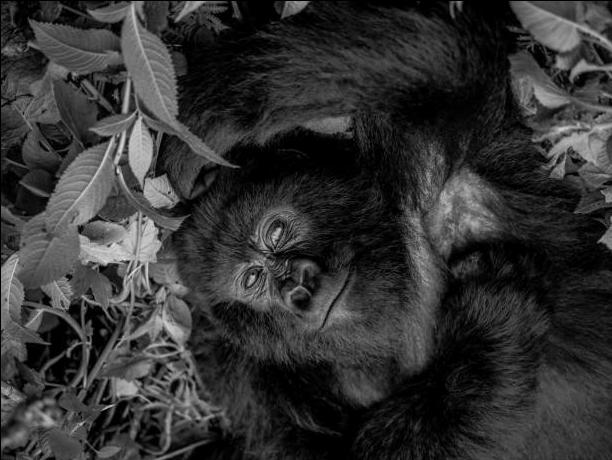goriile_montagne: (160, 12, 612, 448)
